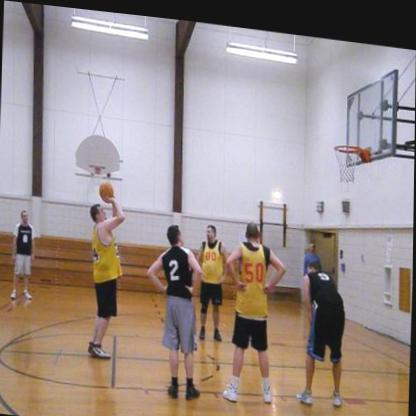basketball: (99, 178, 114, 199)
rim: (333, 134, 359, 148), (89, 160, 106, 168)
